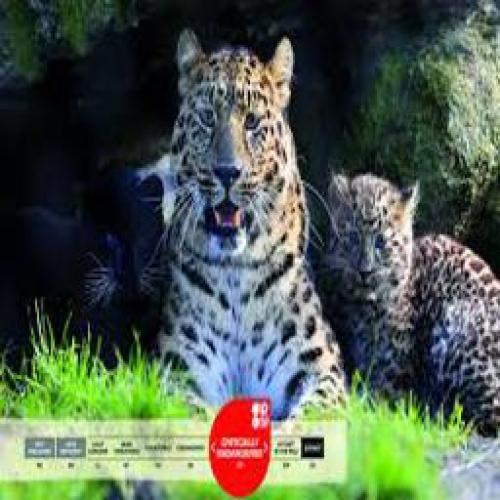panther-endangered: (3, 169, 167, 353)
